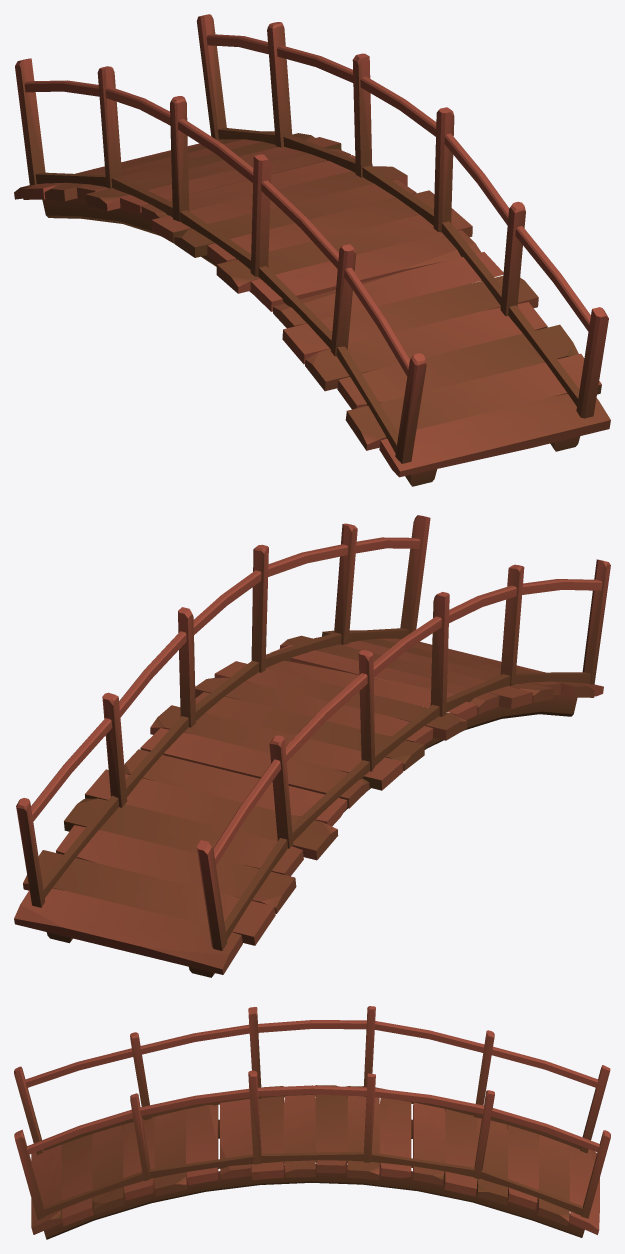
The model's file is bridgewood.glb.
3 renders of one model, top to bottom at view 1: azimuth 30°, elevation 25°; view 2: azimuth 150°, elevation 25°; view 3: azimuth 270°, elevation 25°, orthographic. The views are drawn at different scales.
Parts seen in each view (by area): view 1: BridgeWood_mesh1; view 2: BridgeWood_mesh1; view 3: BridgeWood_mesh1.
Part boxes in pixels (x1=…): BridgeWood_mesh1: x1=14, y1=14, x2=610, y2=486; BridgeWood_mesh1: x1=14, y1=515, x2=610, y2=977; BridgeWood_mesh1: x1=14, y1=1006, x2=610, y2=1239.
Bounding box in the file's own units: 2.35 × 2.23 × 7.06.
Materials: 1 (1 with a texture image).
